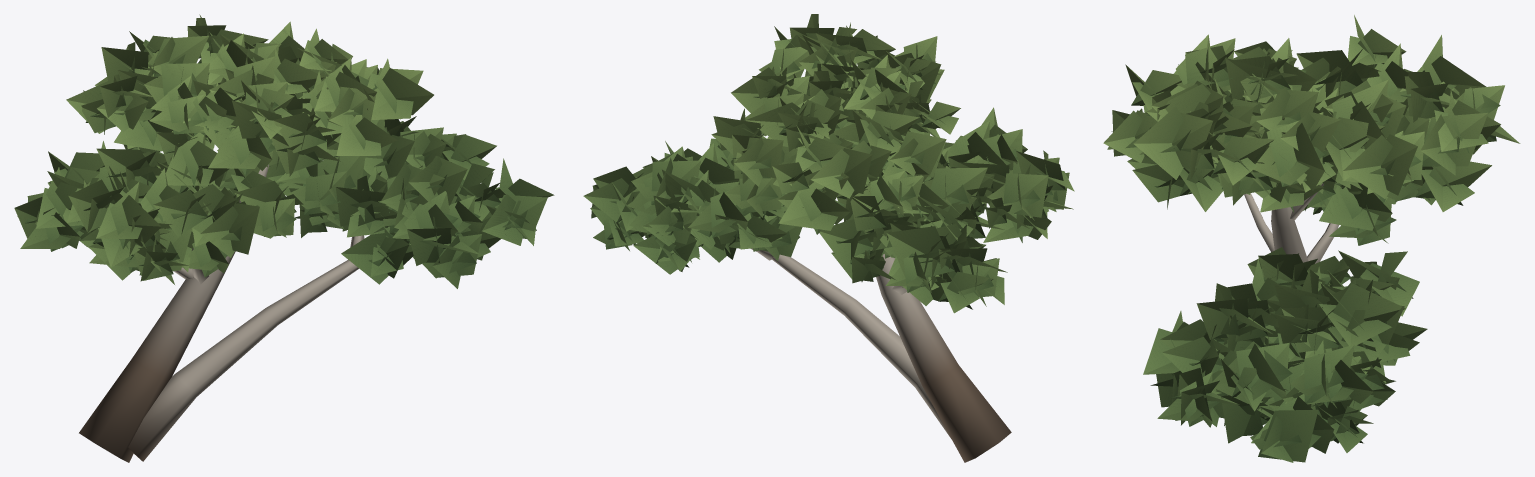
The model's file is juniper_b.glb.
3 views of the same model, side by side, from view 1: azimuth 30°, elevation 25°; view 2: azimuth 150°, elevation 25°; view 3: azimuth 270°, elevation 25° (orthographic). The views are drawn at different scales.
Parts seen in each view (by area): view 1: juniper_b; view 2: juniper_b; view 3: juniper_b.
Part boxes in pixels (x1,y1,x2,y2): juniper_b: (14, 14, 554, 462); juniper_b: (583, 14, 1074, 462); juniper_b: (1103, 15, 1520, 462).
Size of the model in its own units: 5.26 by 3.94 by 3.41.
